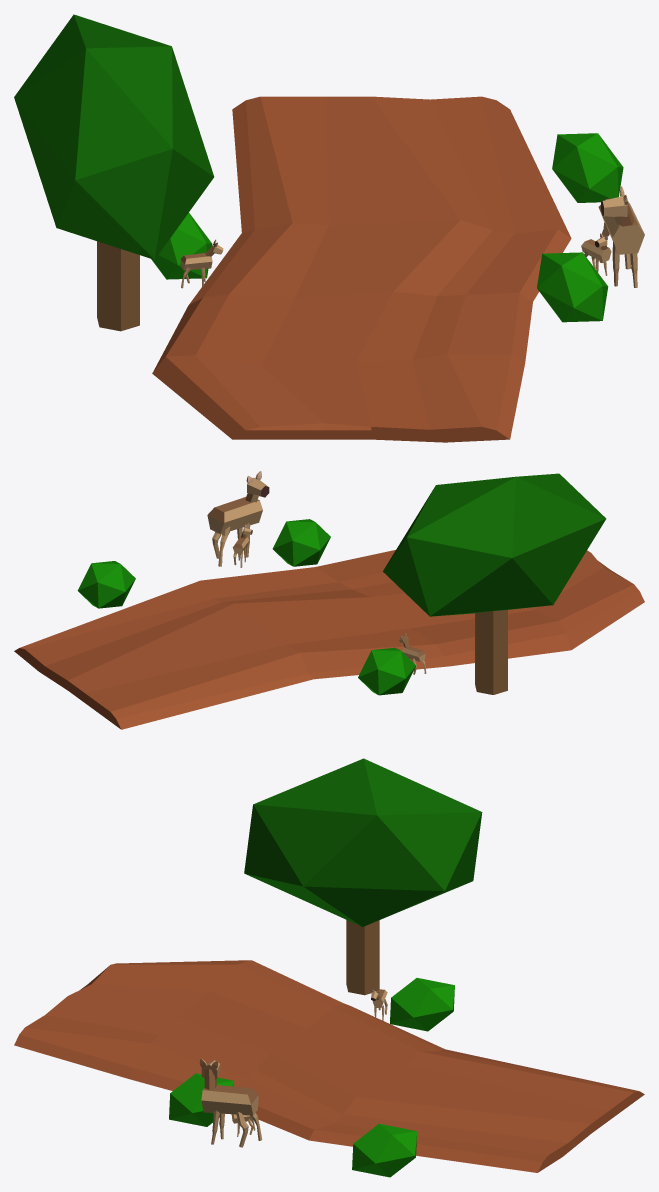
File: street3_03_2.fbx
The picture shows the model from 3 angles, top to bottom: view 1: azimuth 30°, elevation 25°; view 2: azimuth 150°, elevation 25°; view 3: azimuth 270°, elevation 25°; orthographic projection. The views are drawn at different scales.
Parts seen in each view (by area): view 1: redRoad03.008, Icosphere.012, Icosphere.014, Icosphere.013, bambi, Icosphere.015, bambi.002, bambi.001; view 2: redRoad03.008, Icosphere.012, bambi, Icosphere.014, Icosphere.013, Icosphere.015, bambi.002, bambi.001; view 3: redRoad03.008, Icosphere.012, Icosphere.013, Icosphere.015, bambi, Icosphere.014.
Boxes of the visible parts, x1,y1,x2,y2 form: redRoad03.008: [152, 96, 571, 442]; Icosphere.012: [14, 14, 214, 331]; Icosphere.014: [537, 252, 608, 322]; Icosphere.013: [552, 133, 623, 202]; bambi: [598, 186, 644, 287]; Icosphere.015: [151, 213, 212, 279]; bambi.002: [180, 239, 223, 288]; bambi.001: [581, 233, 611, 275]; redRoad03.008: [14, 550, 644, 729]; Icosphere.012: [383, 473, 606, 694]; bambi: [207, 471, 269, 566]; Icosphere.014: [272, 519, 330, 566]; Icosphere.013: [77, 561, 135, 608]; Icosphere.015: [358, 647, 416, 695]; bambi.002: [399, 633, 426, 674]; bambi.001: [232, 524, 252, 567]; redRoad03.008: [14, 960, 644, 1172]; Icosphere.012: [244, 758, 482, 995]; Icosphere.013: [352, 1123, 417, 1177]; Icosphere.015: [390, 978, 454, 1031]; bambi: [199, 1058, 262, 1147]; Icosphere.014: [169, 1073, 233, 1126].
Bounding box in the file's own units: 88.7 × 39.4 × 103.
